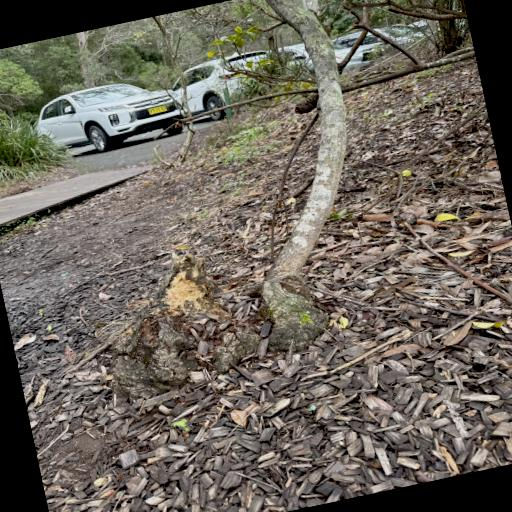tree root: (259, 0, 346, 351), (114, 255, 226, 395), (210, 321, 259, 372)
